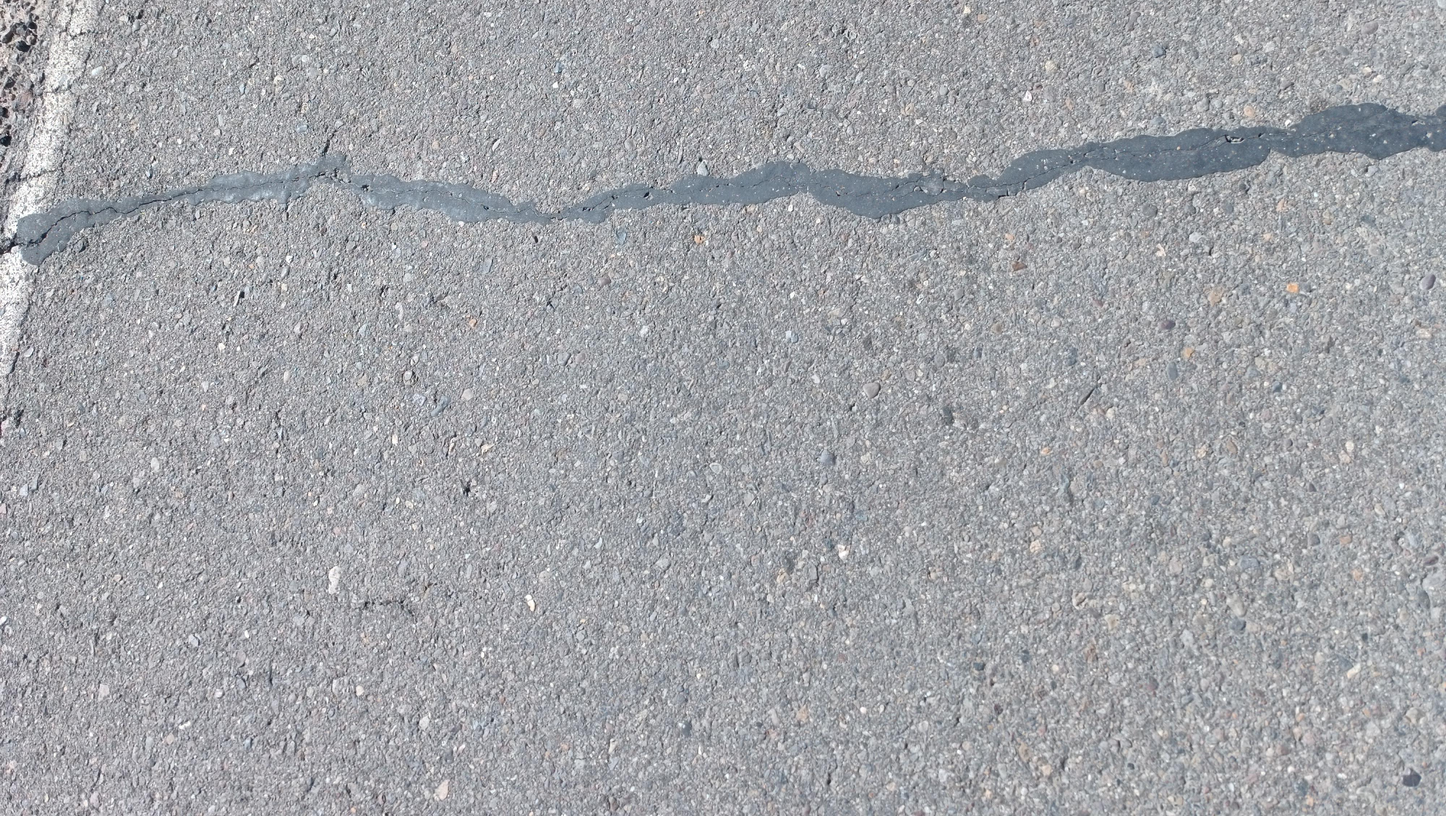GRIETA: (24, 169, 372, 246)
